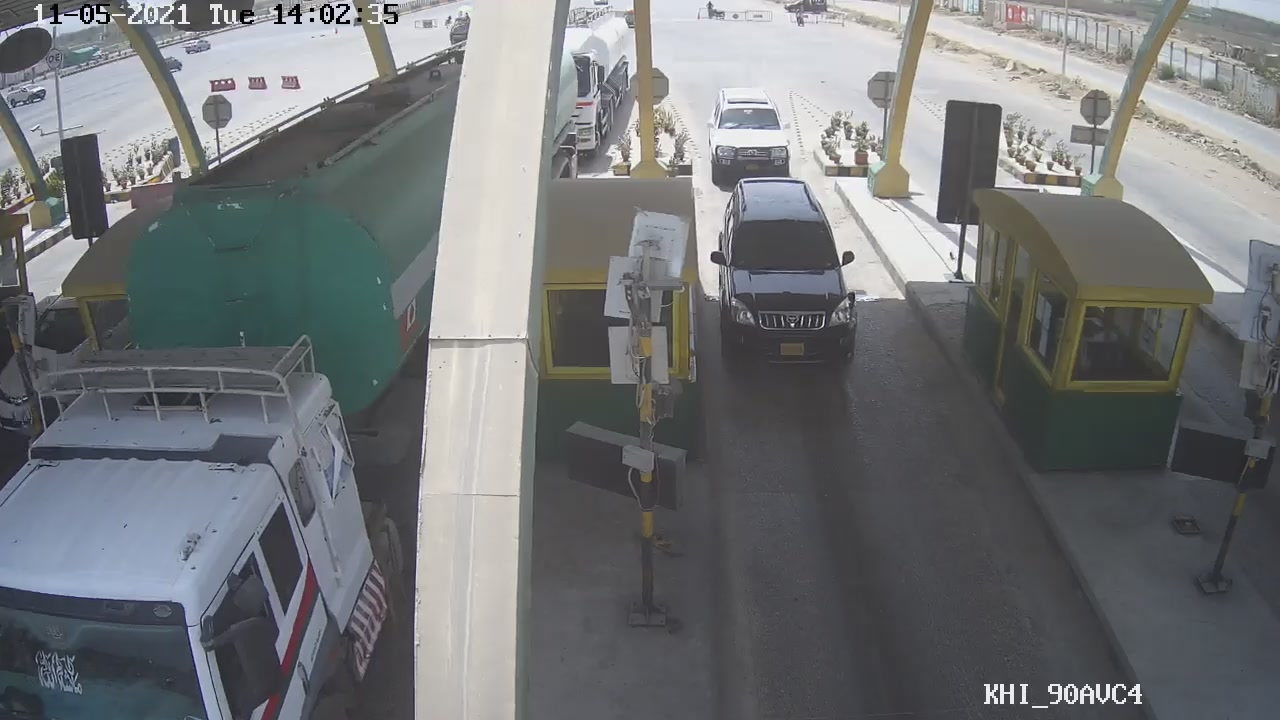F1: (702, 171, 858, 374)
